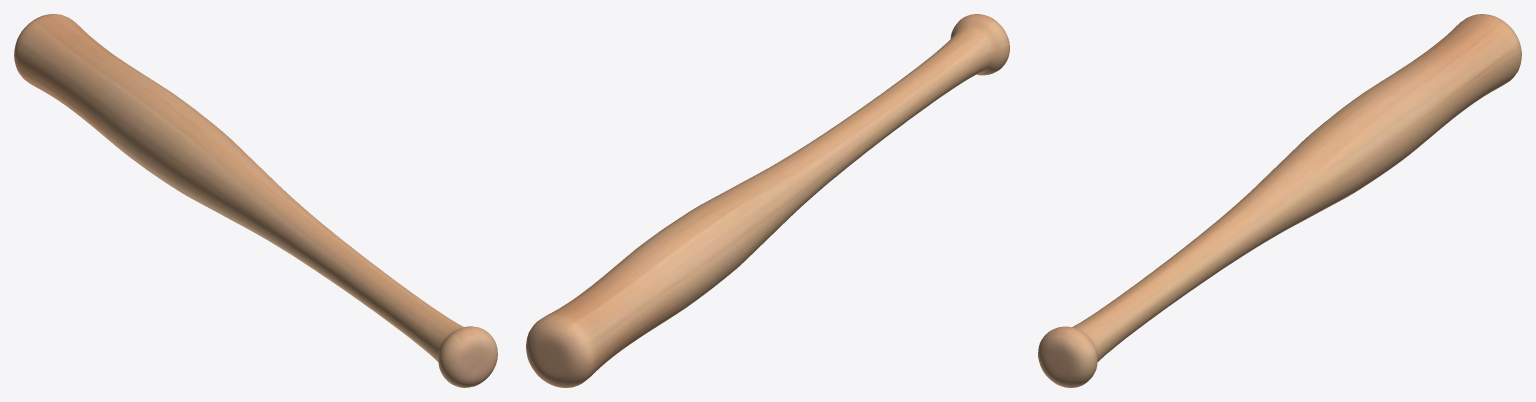
The model's file is bat.glb.
3 views of the same model, side by side, from view 1: azimuth 30°, elevation 25°; view 2: azimuth 150°, elevation 25°; view 3: azimuth 330°, elevation 25° (orthographic).
Visible parts, largest first — view 1: BAT; view 2: BAT; view 3: BAT.
Boxes of the visible parts, x1=… form: BAT: x1=14, y1=14, x2=497, y2=387; BAT: x1=526, y1=14, x2=1009, y2=387; BAT: x1=1038, y1=14, x2=1521, y2=387.
Bounding box in the file's own units: 0.0745 × 0.0745 × 0.84.
1 material, 1 textured.
